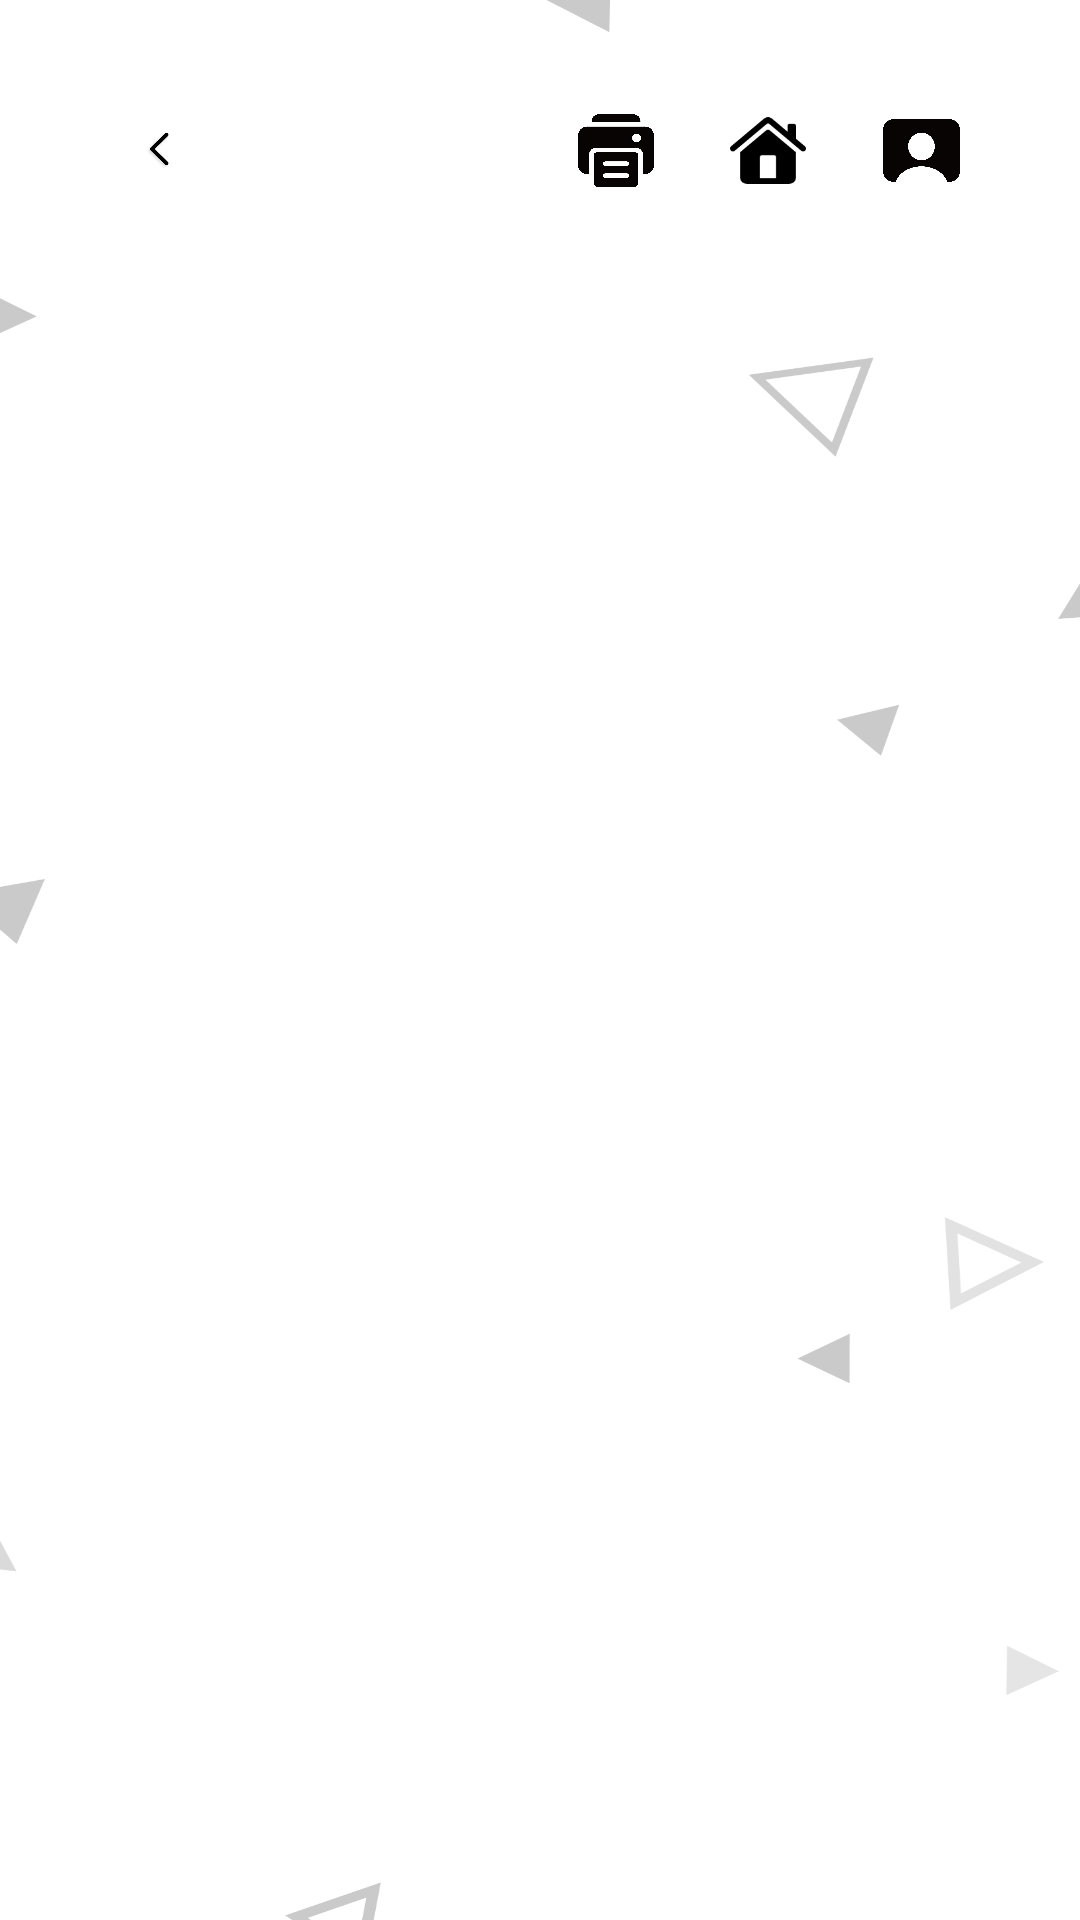

Named icons in this screenshot (1080x1920) and their bounding boxes, (x1, y1, x2, y2):
back: (150, 133, 169, 166)
home: (730, 117, 806, 184)
portfilo: (883, 119, 960, 182)
printer: (578, 114, 654, 187)
